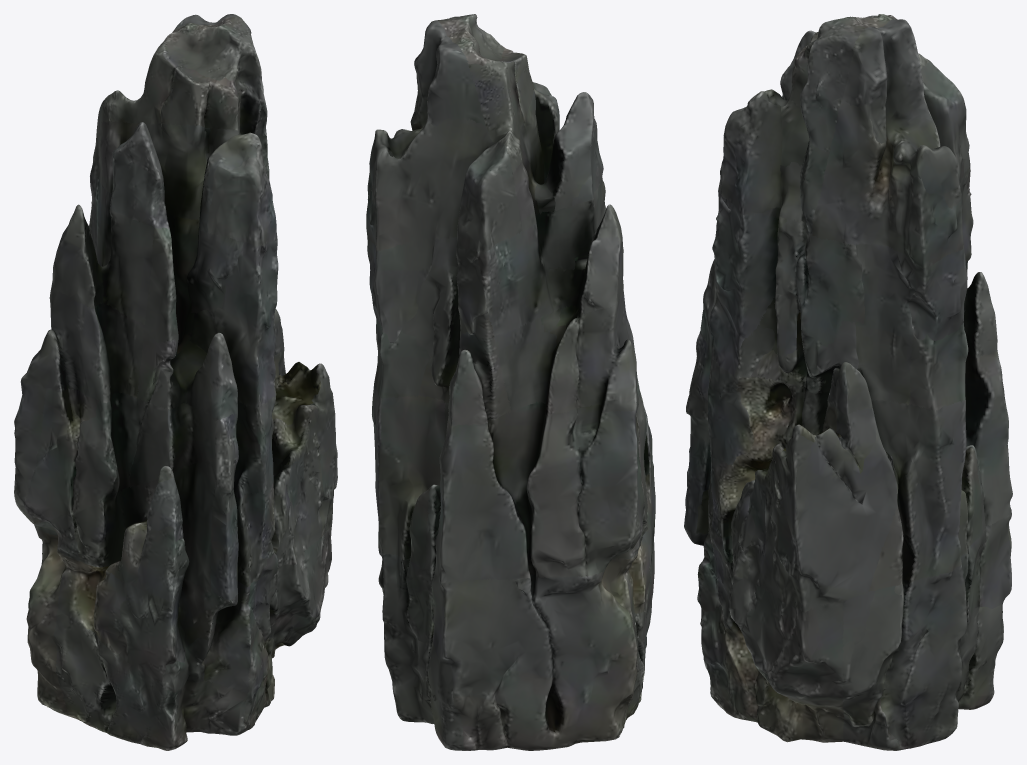
File: Dieshi_13.glb
The picture shows the model from 3 angles, left to right: view 1: azimuth 30°, elevation 25°; view 2: azimuth 150°, elevation 25°; view 3: azimuth 270°, elevation 25°; orthographic projection. The views are drawn at different scales.
Visible parts, largest first — view 1: tripo_node_87da3ba1-3d5e-4a30-a462-c01b02bb4296; view 2: tripo_node_87da3ba1-3d5e-4a30-a462-c01b02bb4296; view 3: tripo_node_87da3ba1-3d5e-4a30-a462-c01b02bb4296.
Boxes of the visible parts, x1,y1,x2,y2 form: tripo_node_87da3ba1-3d5e-4a30-a462-c01b02bb4296: (14, 14, 337, 750); tripo_node_87da3ba1-3d5e-4a30-a462-c01b02bb4296: (366, 14, 655, 750); tripo_node_87da3ba1-3d5e-4a30-a462-c01b02bb4296: (684, 14, 1012, 750).
Size of the model in its own units: 0.4355 by 0.9786 by 0.4072.
Materials: 1 (1 with a texture image).
